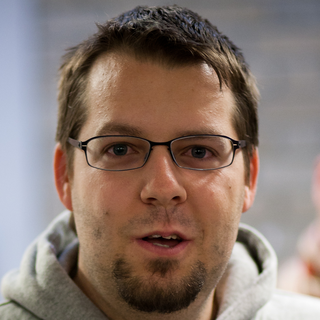eye: (176, 141, 220, 164), (100, 140, 144, 163)
